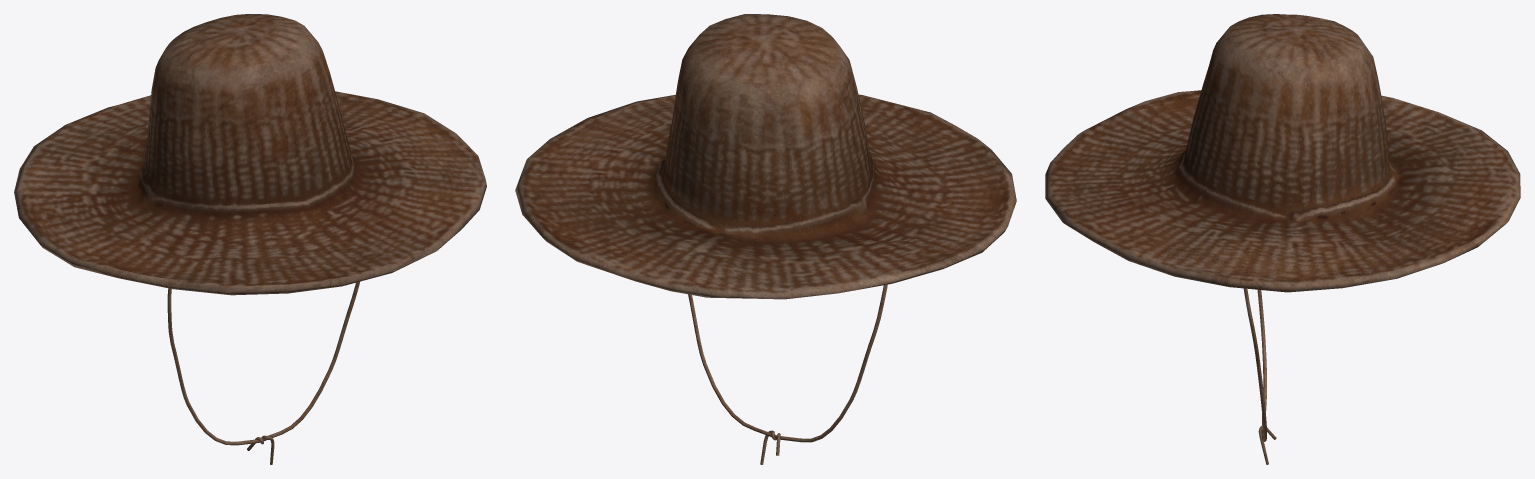
Rendered from Merchant_Hat.dae.
3 views of the same model, side by side, from view 1: azimuth 30°, elevation 25°; view 2: azimuth 150°, elevation 25°; view 3: azimuth 270°, elevation 25° (orthographic). The views are drawn at different scales.
Visible parts, largest first — view 1: Merchant_Hat; view 2: Merchant_Hat; view 3: Merchant_Hat.
Boxes of the visible parts, x1,y1,x2,y2 form: Merchant_Hat: [14, 14, 486, 464]; Merchant_Hat: [515, 14, 1016, 464]; Merchant_Hat: [1045, 14, 1520, 464].
Size of the model in its own units: 0.3498 by 0.3407 by 0.3387.
1 material, 1 textured.
